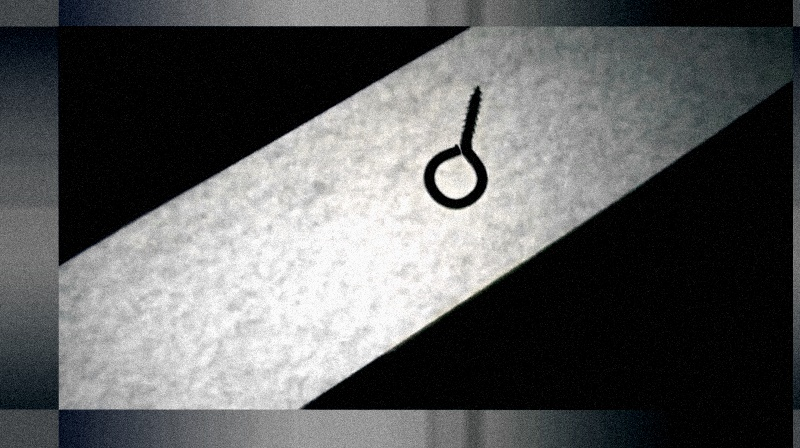O001: (418, 83, 490, 211)
